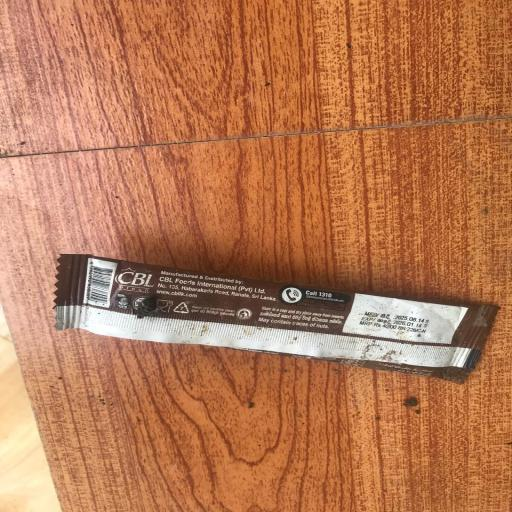waste: (41, 249, 498, 386)
